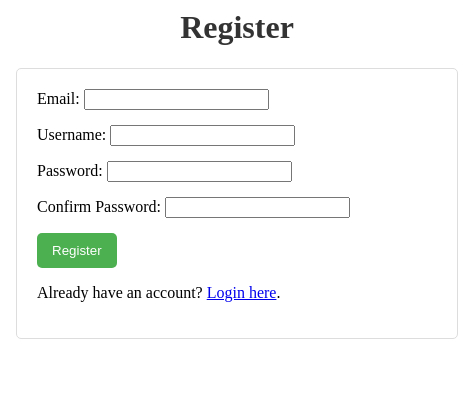
Test: User Register › Checks for invalid email
In the field with id "username": (203, 136) x1=110 y1=125 x2=295 y2=146, type "dsfsdfsd"
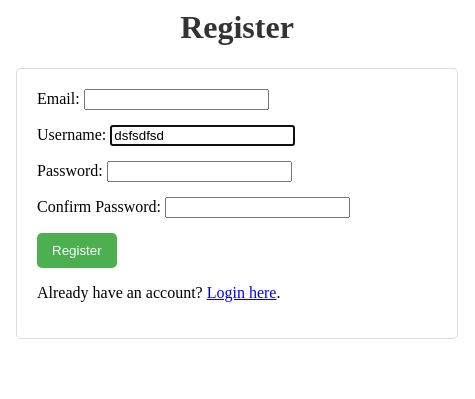
In the password field with id "registerPassword": (200, 172) x1=107 y1=161 x2=292 y2=182, type "dietdew"
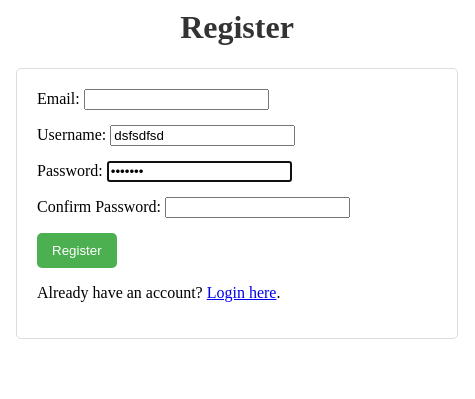
In the password field with id "confirmPassword": (258, 208) x1=165 y1=197 x2=350 y2=218, type "dietdew"
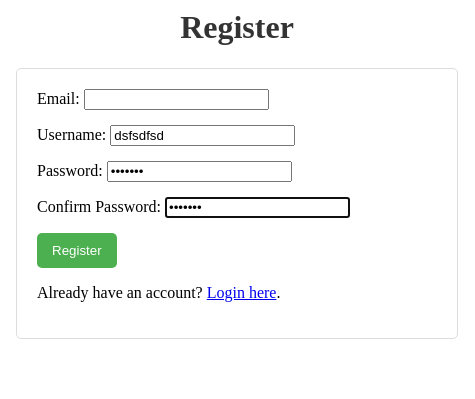
In the field with id "registerEmail": (177, 100) x1=84 y1=89 x2=269 y2=110, type "sdfsd"
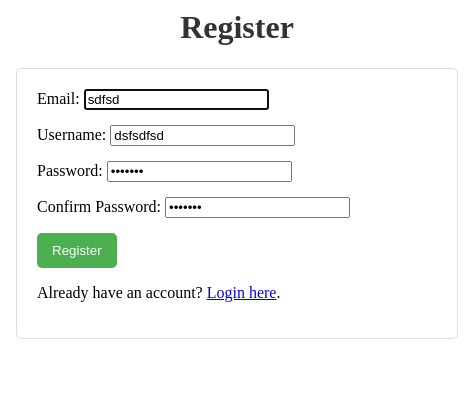
Replace the text in the field with id "registerEmail" with "sdfsd@fsd": (177, 100) x1=84 y1=89 x2=269 y2=110
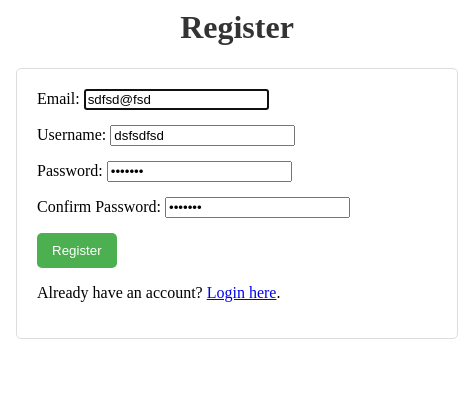
Click the button "Register": (77, 251) x1=37 y1=233 x2=117 y2=268
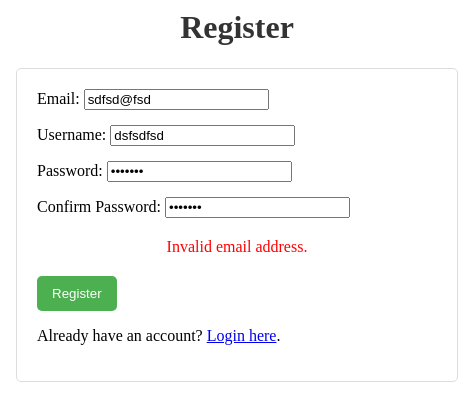
expect the text "Invalid email address." is shown: met, box x1=167 y1=238 x2=307 y2=255
